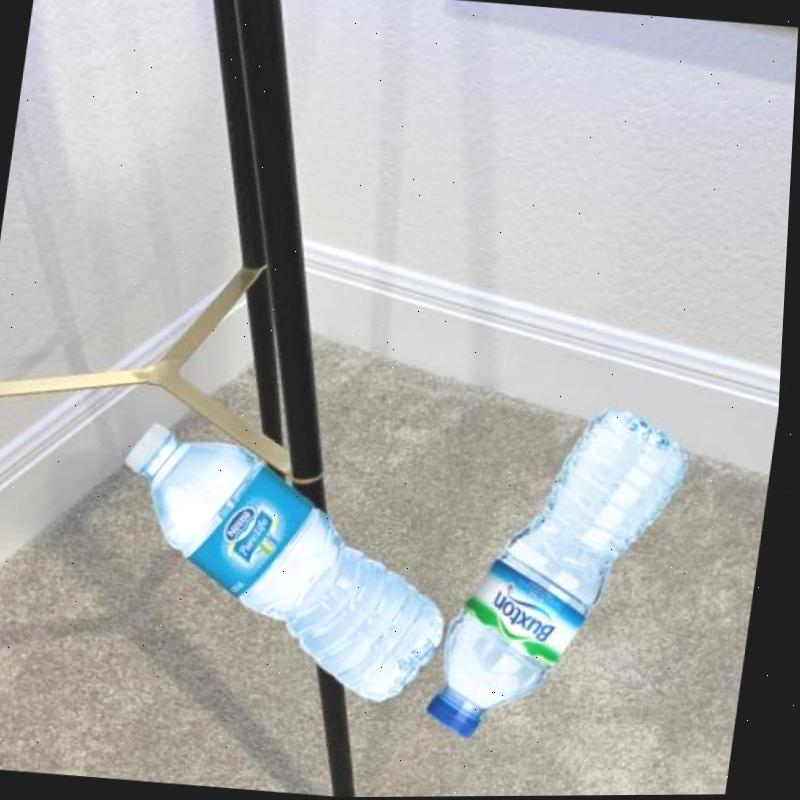botella: (99, 419, 476, 711), (428, 395, 707, 757)
